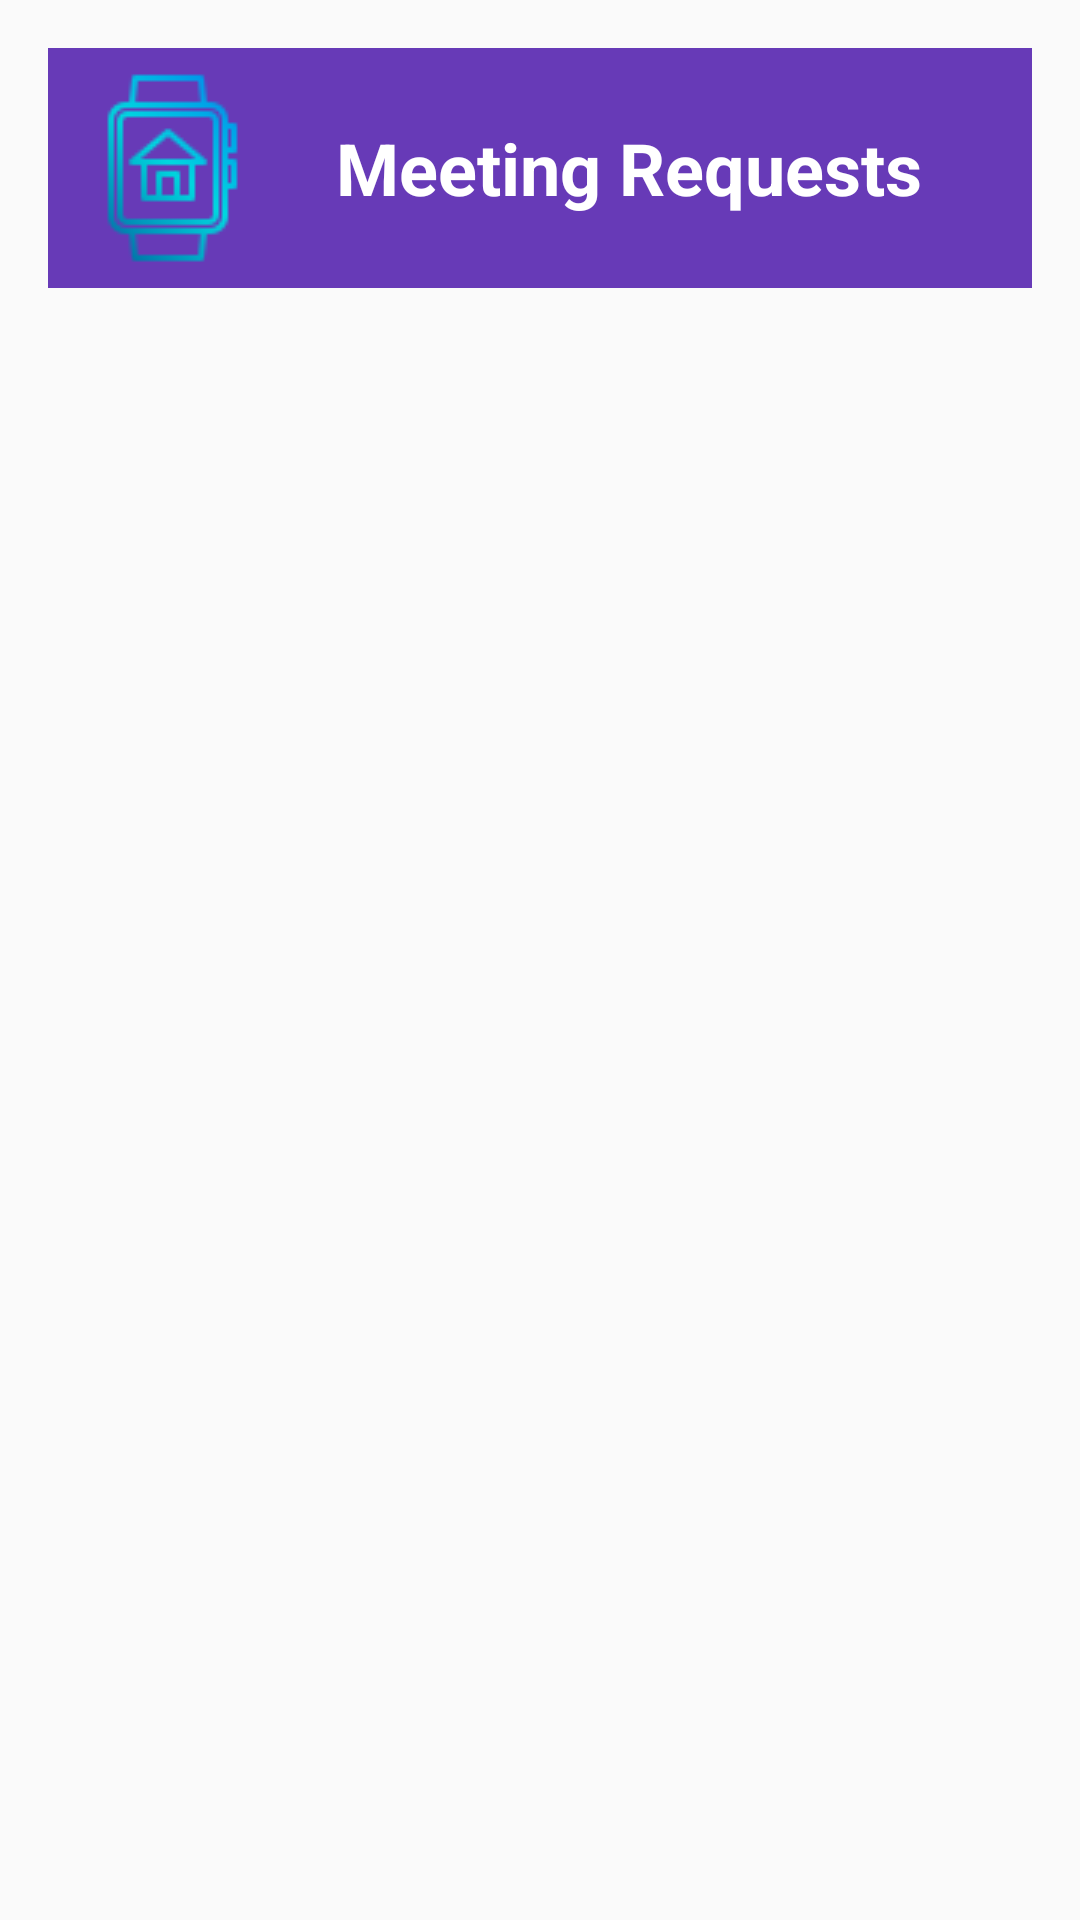

Icons on this 1080w x 1920h Android screen, each with the point to tap as (x,y):
home: (168,168)
